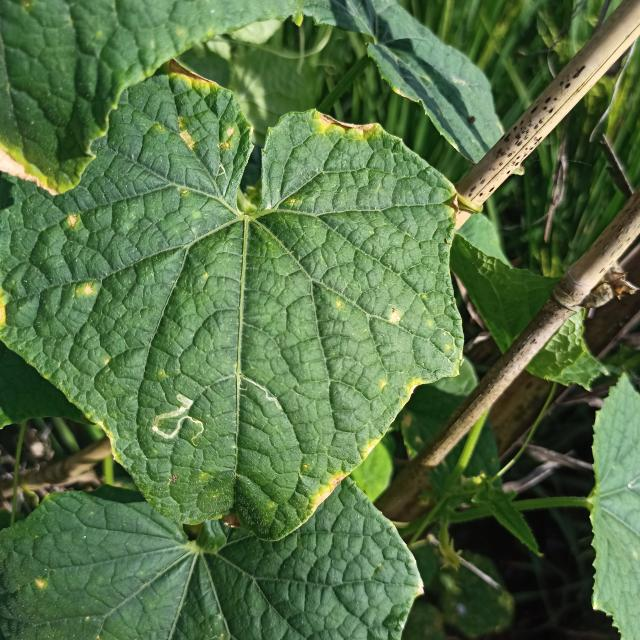disease_cucumber: (167, 71, 240, 158), (375, 370, 426, 401), (60, 205, 88, 237), (75, 279, 99, 301), (386, 306, 407, 327)
